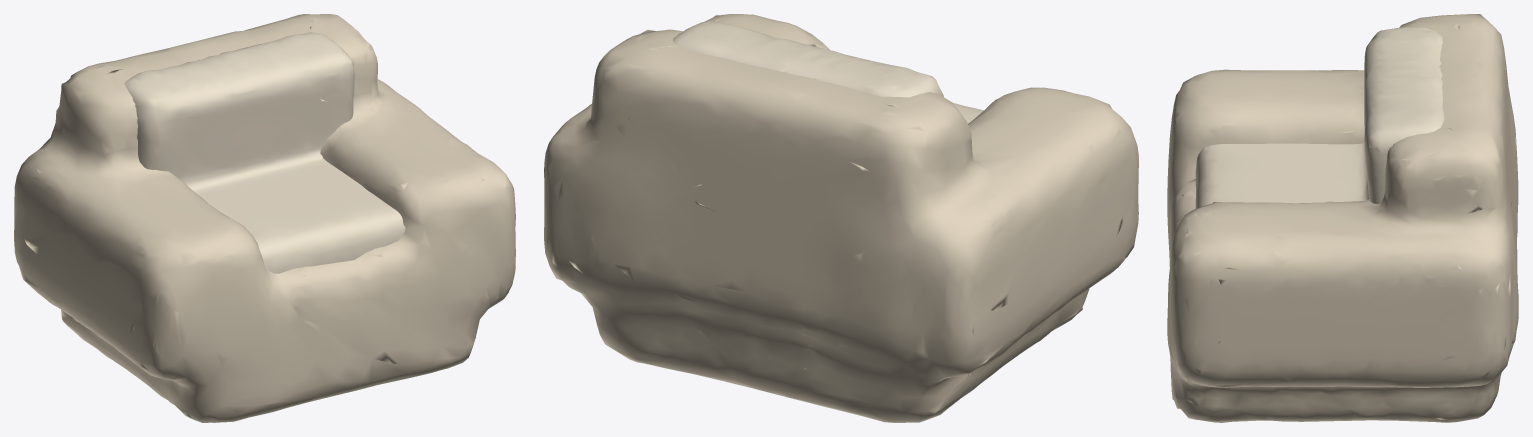
File: armchair.glb
3 views of the same model, side by side, from view 1: azimuth 30°, elevation 25°; view 2: azimuth 150°, elevation 25°; view 3: azimuth 270°, elevation 25° (orthographic). The views are drawn at different scales.
Visible parts, largest first — view 1: Frame, Cushions; view 2: Frame, Cushions; view 3: Frame, Cushions.
Boxes of the visible parts, <box> form: Frame: <box>14,14,515,422</box>; Cushions: <box>124,32,405,273</box>; Frame: <box>544,14,1138,422</box>; Cushions: <box>672,21,983,123</box>; Frame: <box>1167,14,1518,422</box>; Cushions: <box>1195,26,1444,208</box>.
Bounding box in the file's own units: 1.66 × 1.13 × 1.28.
